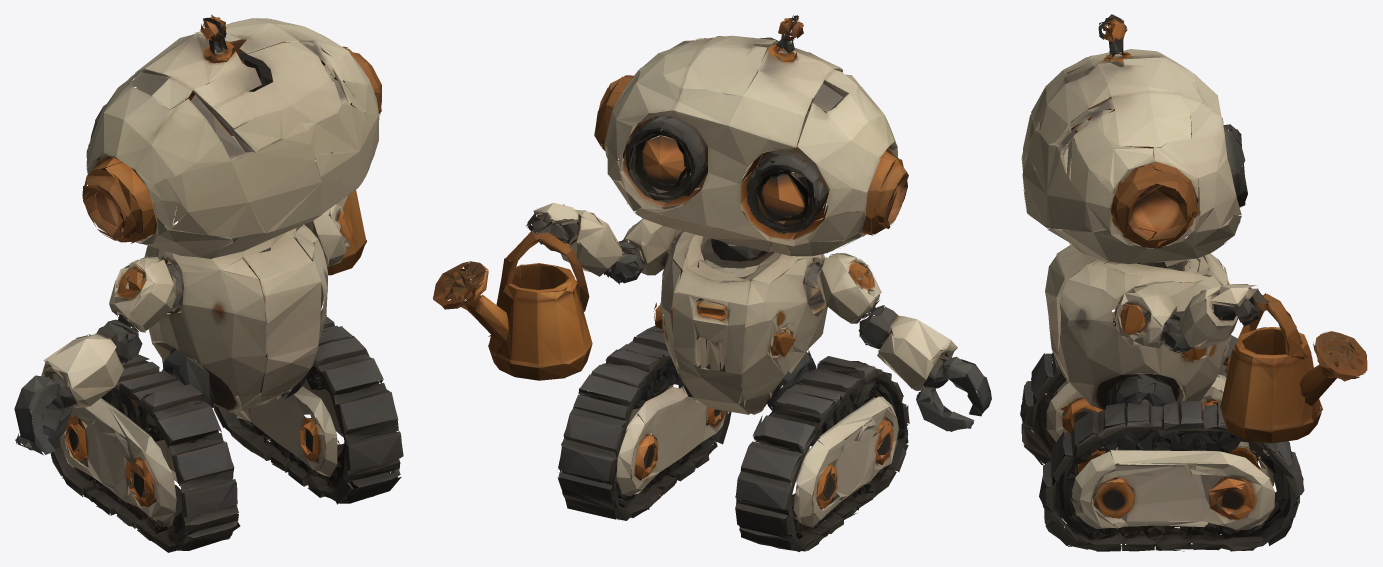
Rendered from robot-jardinier.glb.
3 views of the same model, side by side, from view 1: azimuth 30°, elevation 25°; view 2: azimuth 150°, elevation 25°; view 3: azimuth 270°, elevation 25° (orthographic). The views are drawn at different scales.
Visible parts, largest first — view 1: robot-jardinier; view 2: robot-jardinier; view 3: robot-jardinier.
Boxes of the visible parts, x1,y1,x2,y2 form: robot-jardinier: (14,14,403,552); robot-jardinier: (433,15,991,551); robot-jardinier: (1020,14,1367,551).
Bounding box in the file's own units: 1.23 × 1.3 × 0.8729.
1 material, 1 textured.
